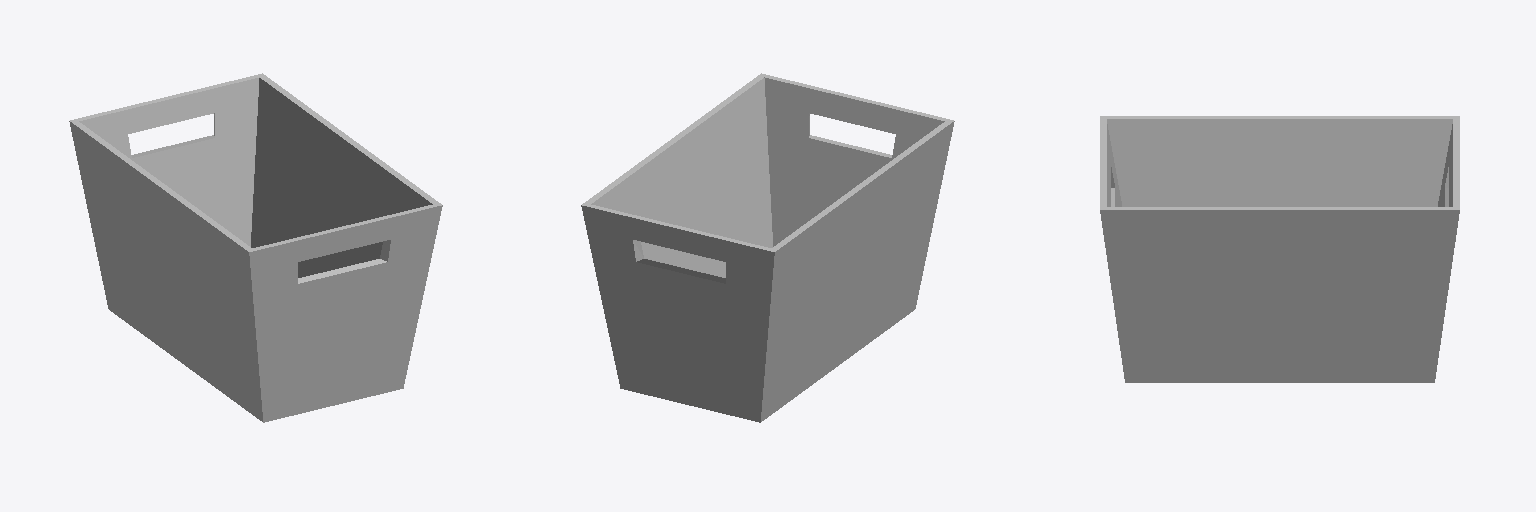
The model's file is containerA.obj.
3 views of the same model, side by side, from view 1: azimuth 30°, elevation 25°; view 2: azimuth 150°, elevation 25°; view 3: azimuth 270°, elevation 25° (orthographic).
Visible parts, largest first — view 1: Cube.026; view 2: Cube.026; view 3: Cube.026.
Boxes of the visible parts, x1=… form: Cube.026: x1=69, y1=73, x2=442, y2=422; Cube.026: x1=581, y1=73, x2=954, y2=422; Cube.026: x1=1100, y1=116, x2=1459, y2=382.
Size of the model in its own units: 0.9492 by 0.8723 by 1.53.